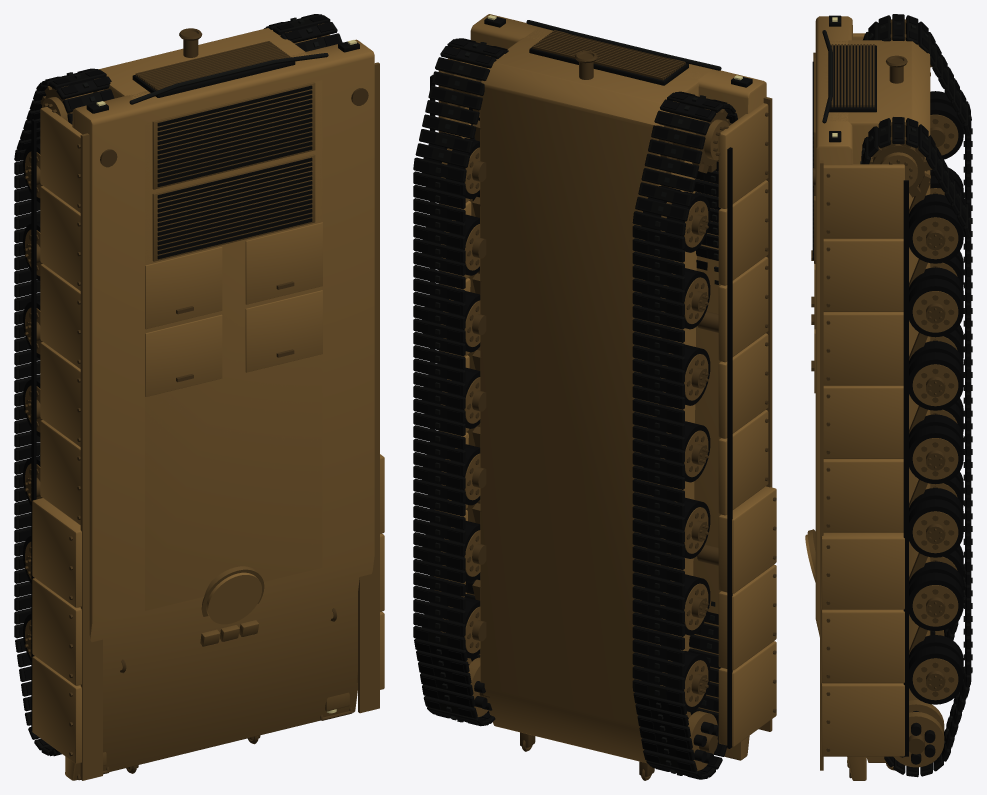
The model's file is tank_hull.obj.
The picture shows the model from 3 angles, left to right: view 1: azimuth 30°, elevation 25°; view 2: azimuth 150°, elevation 25°; view 3: azimuth 270°, elevation 25°; orthographic projection. The views are drawn at different scales.
Visible parts, largest first — view 1: TankHull; view 2: TankHull; view 3: TankHull.
Boxes of the visible parts, x1=… form: TankHull: x1=14, y1=14, x2=384, y2=780; TankHull: x1=413, y1=14, x2=776, y2=780; TankHull: x1=805, y1=14, x2=972, y2=780.
Bounding box in the file's own units: 3.87 × 8.55 × 1.9.
